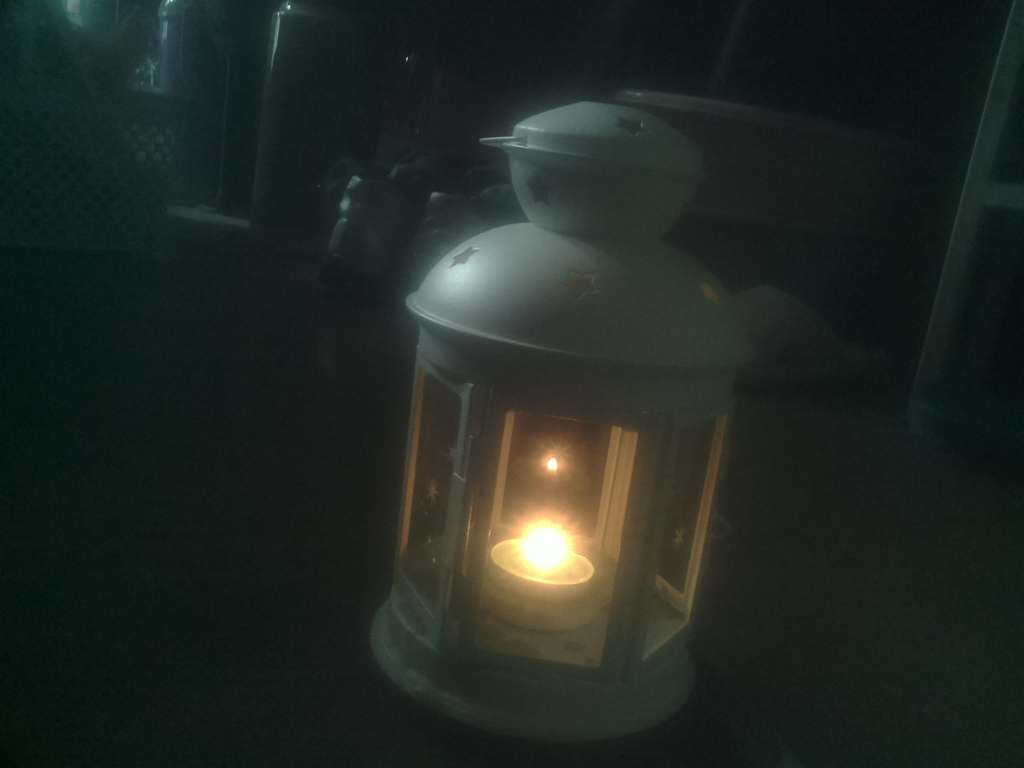fire: (491, 496, 600, 614)
